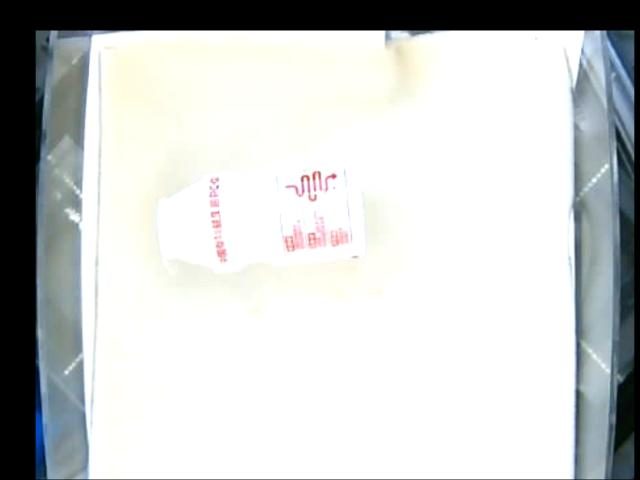Bottle: (157, 156, 362, 272)
